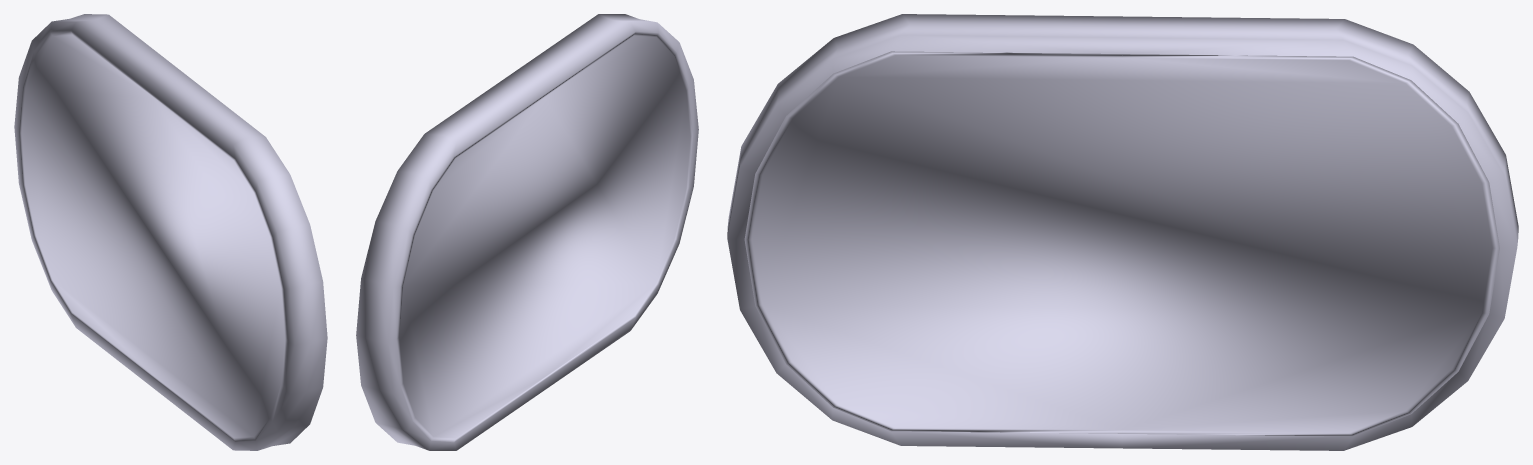
File: otagPlain.gltf
3 renders of one model, left to right at view 1: azimuth 30°, elevation 25°; view 2: azimuth 150°, elevation 25°; view 3: azimuth 270°, elevation 25°, orthographic. The views are drawn at different scales.
Parts seen in each view (by area): view 1: Torus; view 2: Torus; view 3: Torus.
Part boxes in pixels (bbox=[...]): Torus: bbox=[14, 14, 327, 450]; Torus: bbox=[356, 14, 698, 450]; Torus: bbox=[727, 14, 1518, 450].
Bounding box in the file's own units: 0.2356 × 1.44 × 2.5.
